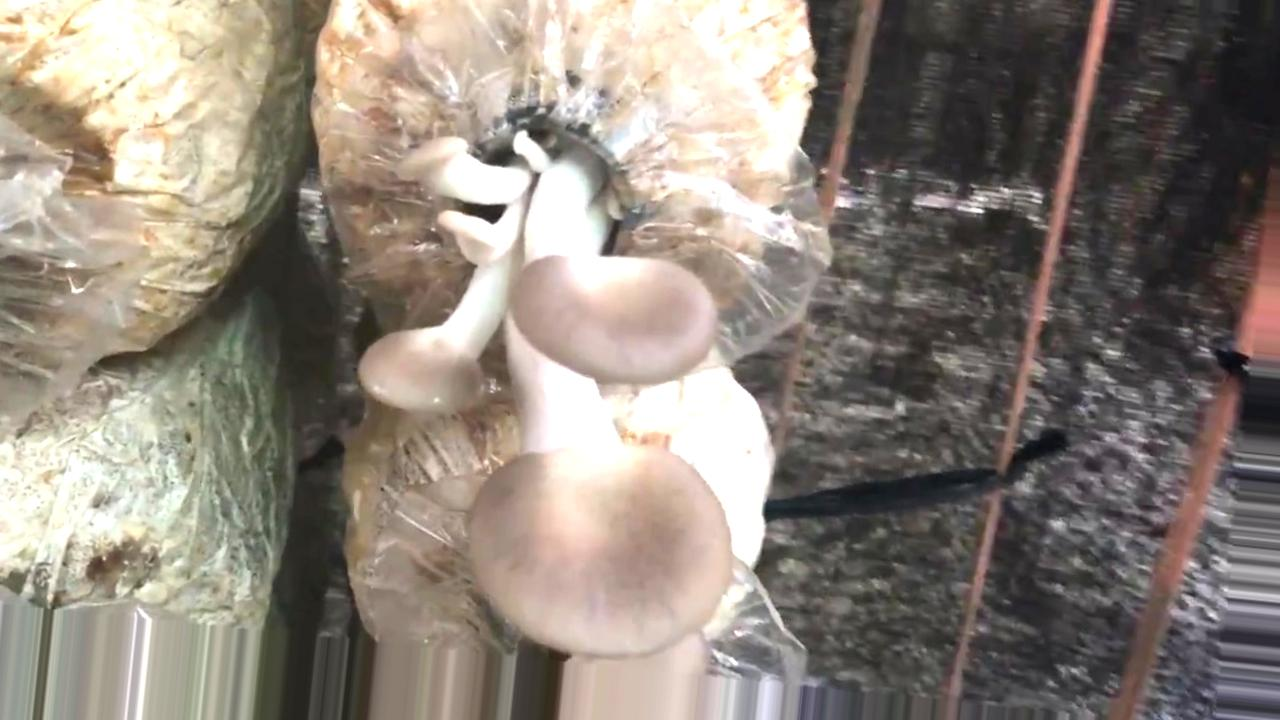nam: (357, 89, 734, 720)
